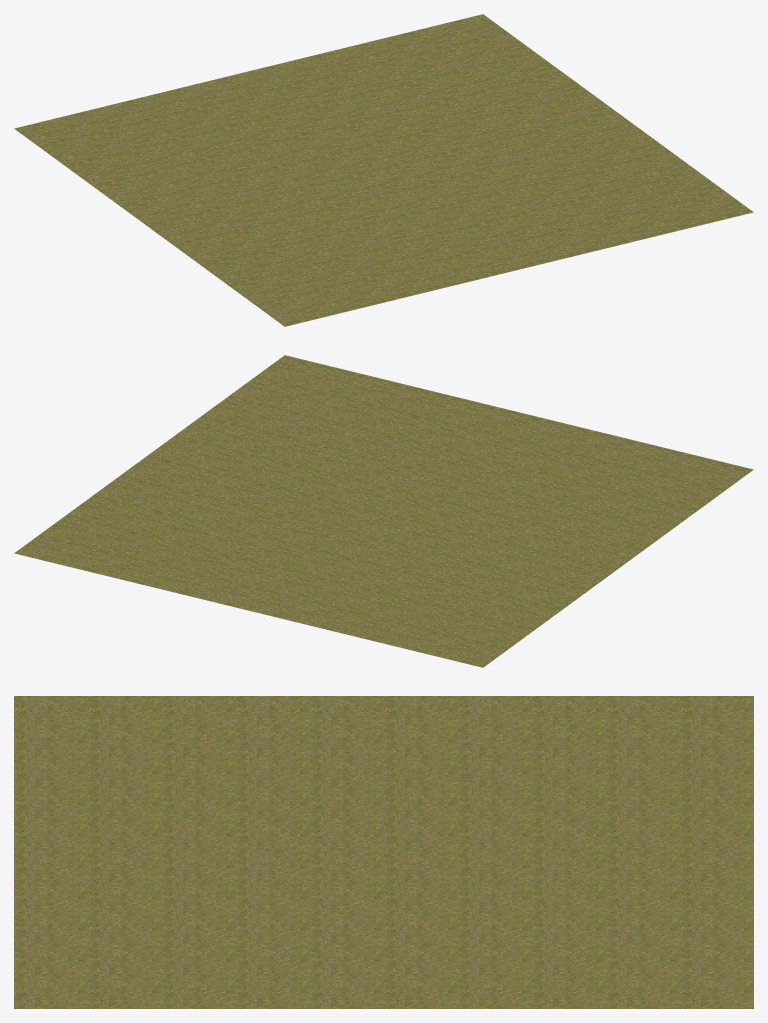
Rendered from Grass.glb.
3 renders of one model, top to bottom at view 1: azimuth 30°, elevation 25°; view 2: azimuth 150°, elevation 25°; view 3: azimuth 270°, elevation 25°, orthographic. The views are drawn at different scales.
Size of the model in its own units: 100 by 0.000774 by 100.
Materials: 1 (1 with a texture image).
